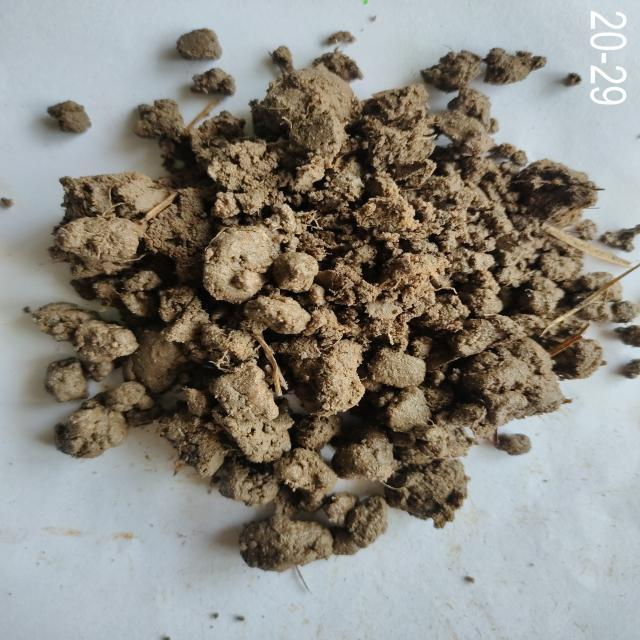soil: (200, 159, 540, 427)
